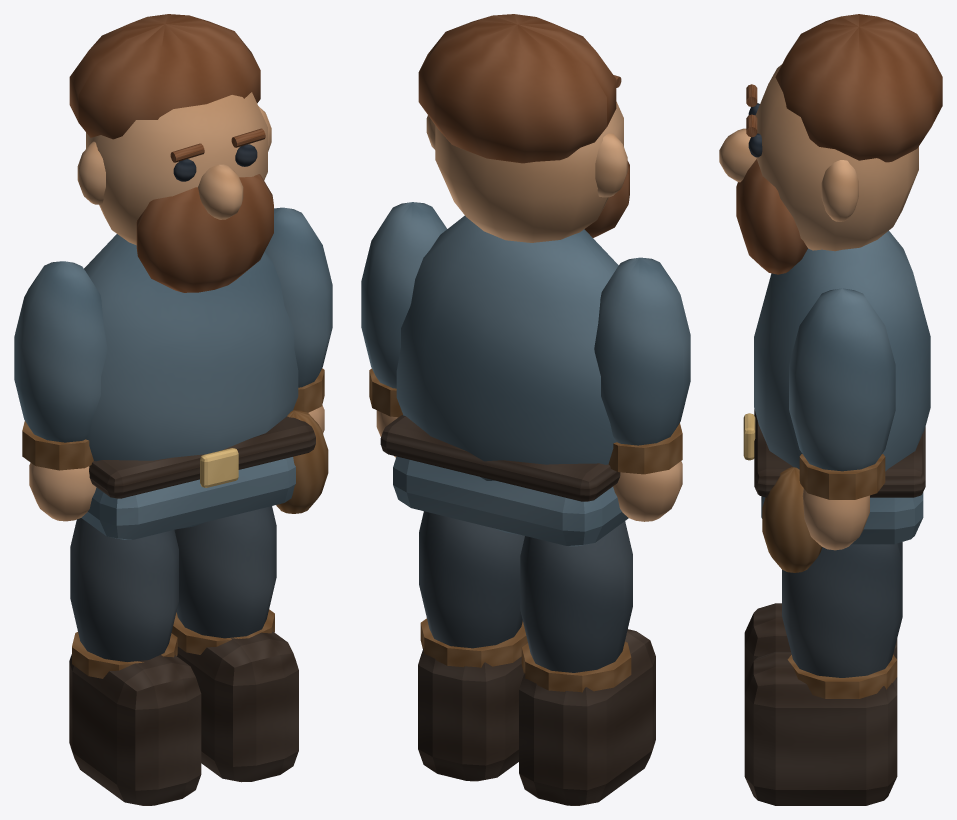
File: karl.glb
3 renders of one model, left to right at view 1: azimuth 30°, elevation 25°; view 2: azimuth 150°, elevation 25°; view 3: azimuth 270°, elevation 25°, orthographic. The views are drawn at different scales.
Parts seen in each view (by area): view 1: Body_Mesh, Head_Mesh, LegL_Mesh, LegR_Mesh, ArmL_Mesh, ArmR_Mesh; view 2: Body_Mesh, Head_Mesh, LegL_Mesh, LegR_Mesh, ArmL_Mesh, ArmR_Mesh; view 3: Head_Mesh, LegR_Mesh, Body_Mesh, ArmR_Mesh, LegL_Mesh.
Part boxes in pixels (<box>): Body_Mesh: <box>81,234,328,539</box>; Head_Mesh: <box>69,14,273,292</box>; LegL_Mesh: <box>69,518,201,805</box>; LegR_Mesh: <box>171,506,298,782</box>; ArmL_Mesh: <box>14,261,107,521</box>; ArmR_Mesh: <box>264,207,332,433</box>; Body_Mesh: <box>380,215,628,546</box>; Head_Mesh: <box>418,14,629,242</box>; LegL_Mesh: <box>519,521,655,805</box>; LegR_Mesh: <box>418,511,527,781</box>; ArmL_Mesh: <box>594,257,690,521</box>; ArmR_Mesh: <box>361,202,446,457</box>; Head_Mesh: <box>719,14,942,274</box>; LegR_Mesh: <box>744,543,902,805</box>; Body_Mesh: <box>743,231,930,572</box>; ArmR_Mesh: <box>789,288,895,550</box>; LegL_Mesh: <box>744,542,902,680</box>.
Size of the model in its own units: 0.7447 by 1.73 by 0.4689.
1 material, 1 textured.
